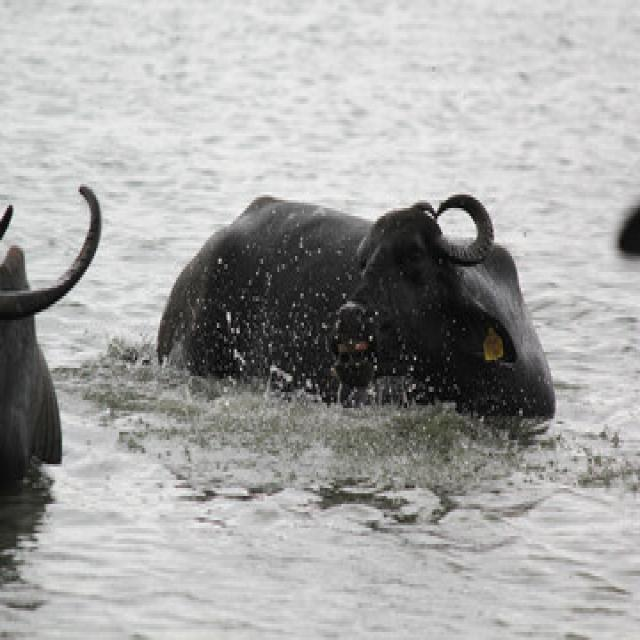Buffalo: (153, 192, 560, 429)
